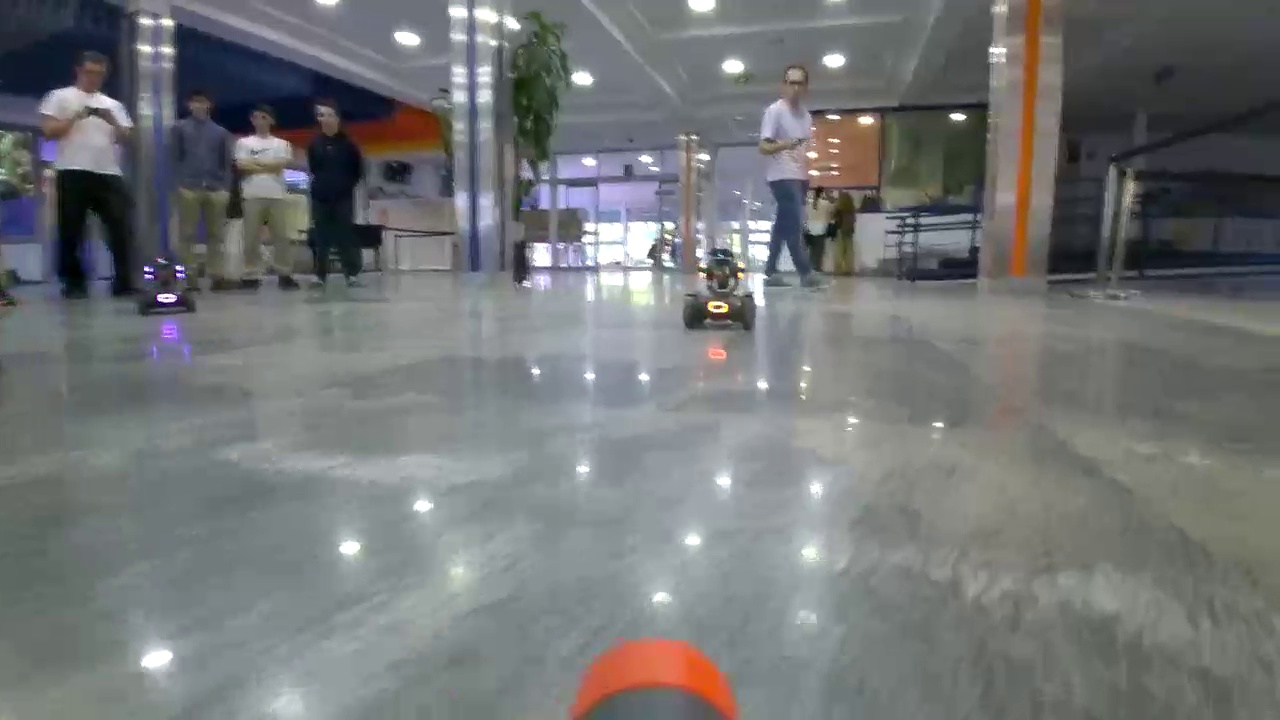robot: (683, 247, 757, 331), (139, 258, 198, 316)
